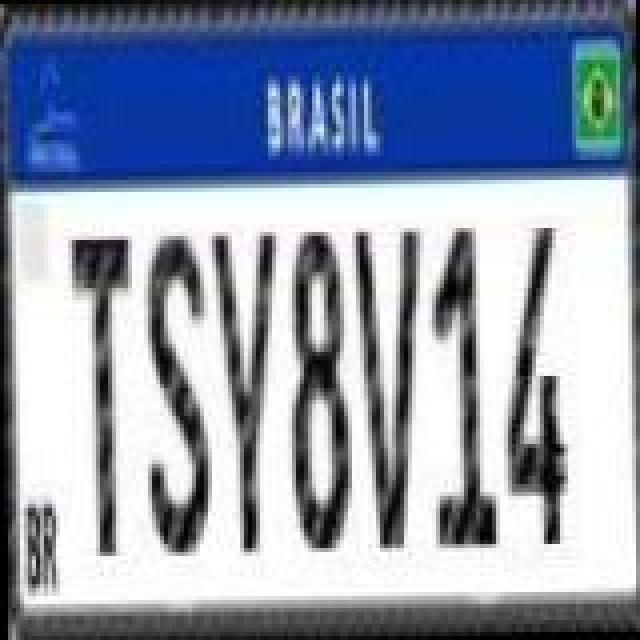1: (428, 220, 500, 556)
4: (498, 216, 566, 552)
8: (286, 222, 354, 558)
S: (144, 230, 216, 554)
T: (70, 234, 138, 558)
V: (358, 226, 426, 550)
Y: (212, 224, 284, 560)
